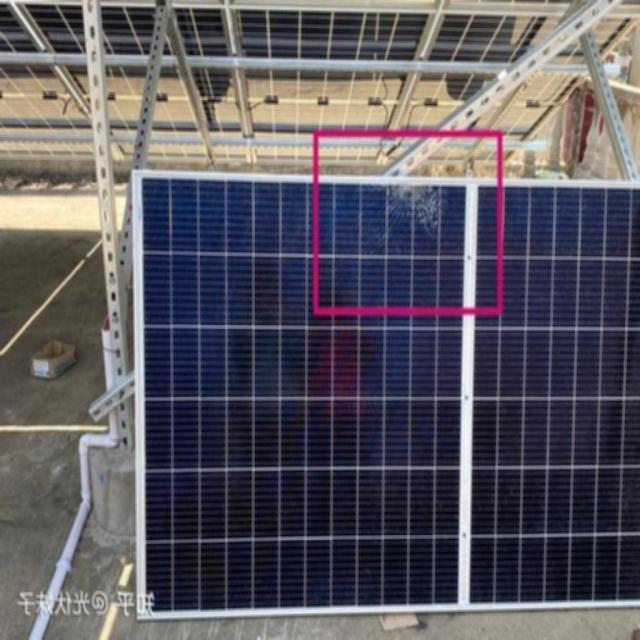cracked: (361, 180, 444, 255)
